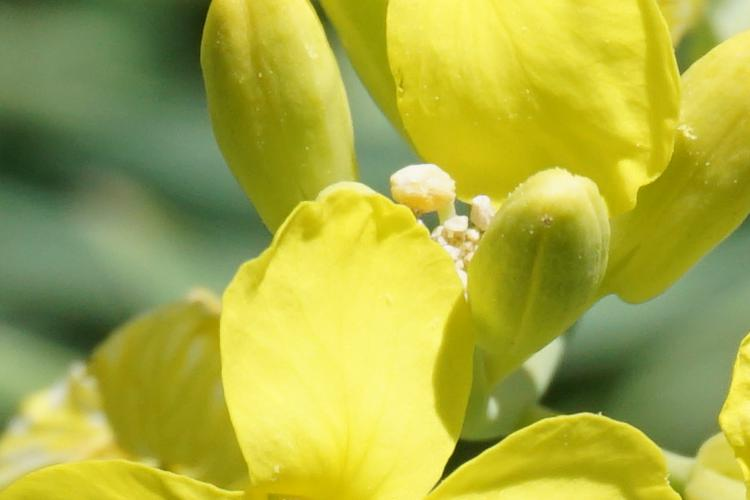bud: (203, 6, 362, 217), (643, 23, 750, 315), (458, 165, 611, 369)
yellow: (69, 219, 655, 500), (399, 16, 682, 191)
